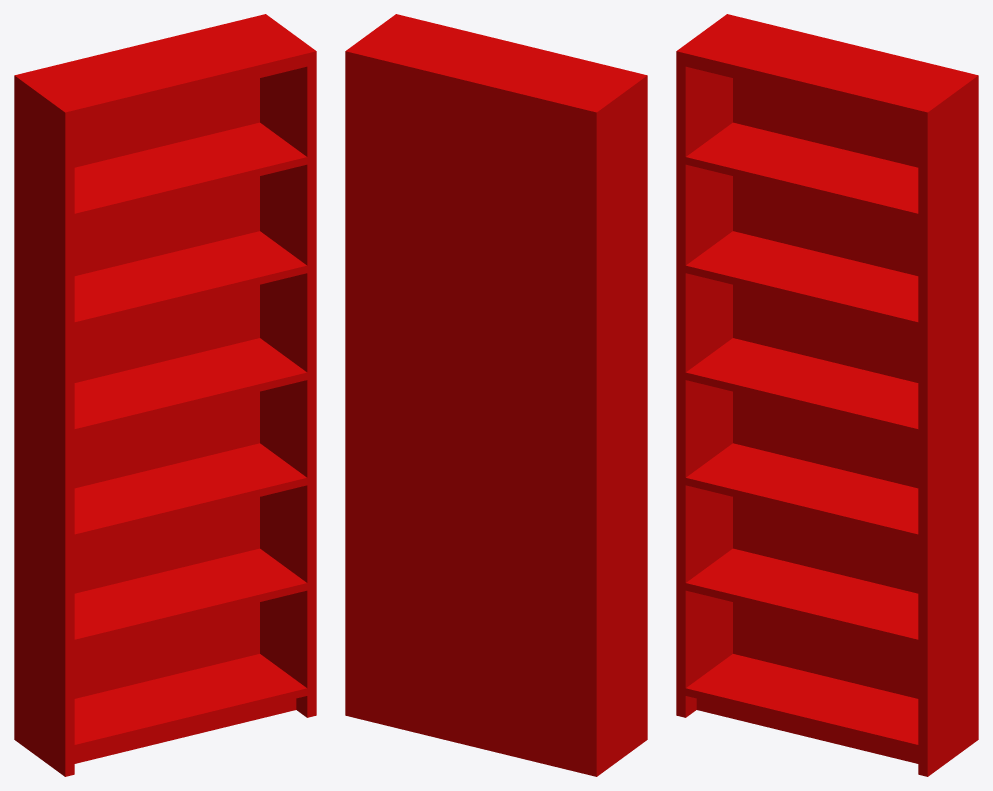
File: thorkea_shelving_units_grp.fbx
The picture shows the model from 3 angles, left to right: view 1: azimuth 30°, elevation 25°; view 2: azimuth 150°, elevation 25°; view 3: azimuth 330°, elevation 25°; orthographic projection.
Parts seen in each view (by area): view 1: thorkea_shelving_unit_1; view 2: thorkea_shelving_unit_1; view 3: thorkea_shelving_unit_1.
Part boxes in pixels (left/top/right/bottom): thorkea_shelving_unit_1: left=14, top=14, right=316, bottom=776; thorkea_shelving_unit_1: left=345, top=14, right=647, bottom=776; thorkea_shelving_unit_1: left=676, top=14, right=978, bottom=776.
Bounding box in the file's own units: 80 × 202 × 28.
